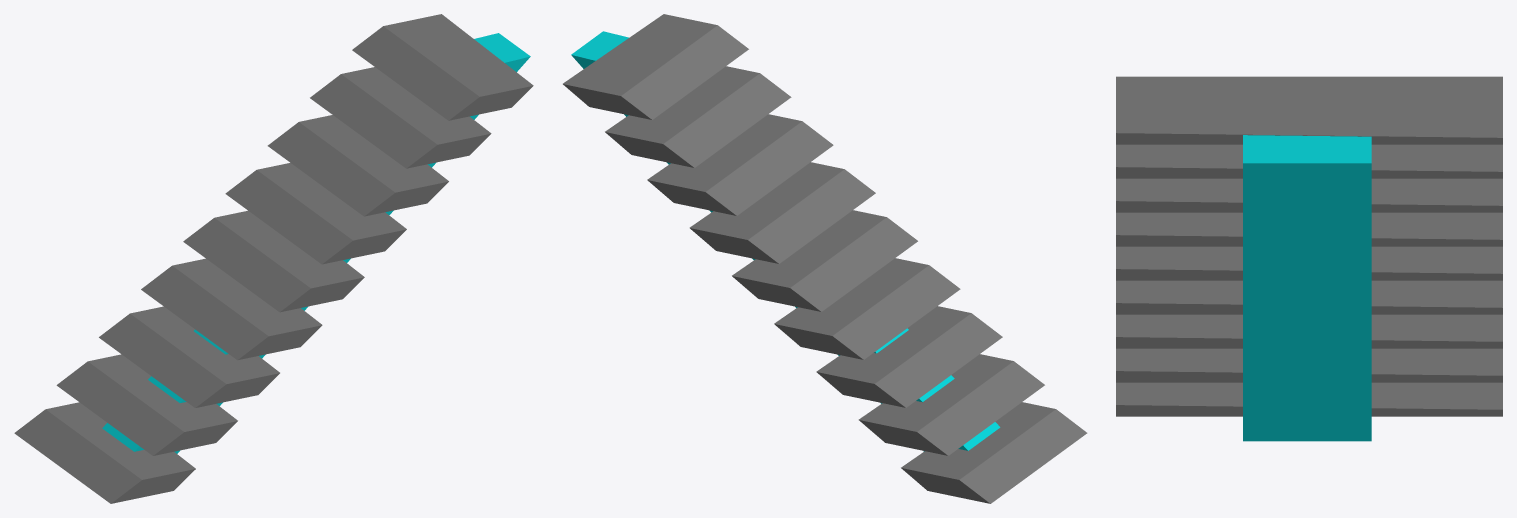
Rendered from SM_B_Stairs1.fbx.
The picture shows the model from 3 angles, left to right: view 1: azimuth 30°, elevation 25°; view 2: azimuth 150°, elevation 25°; view 3: azimuth 270°, elevation 25°; orthographic projection. The views are drawn at different scales.
Visible parts, largest first — view 1: SM_B_Stairs1; view 2: SM_B_Stairs1; view 3: SM_B_Stairs1.
Part boxes in pixels (left/top/right/bottom): SM_B_Stairs1: left=14, top=14, right=533, bottom=503; SM_B_Stairs1: left=563, top=14, right=1087, bottom=503; SM_B_Stairs1: left=1116, top=76, right=1502, bottom=441.
Size of the model in its own units: 511 by 189 by 345.
Materials: 1 (1 with a texture image).
